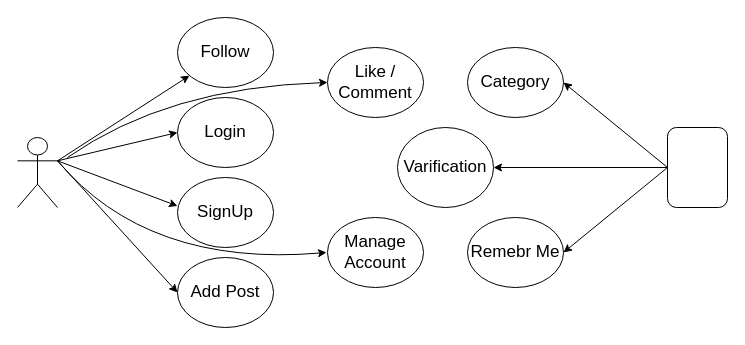
This 745x345 diagram has some shape labels left out. Each missing label, with the centre of its shape:
System: point (697, 167)
User: point (37, 172)
